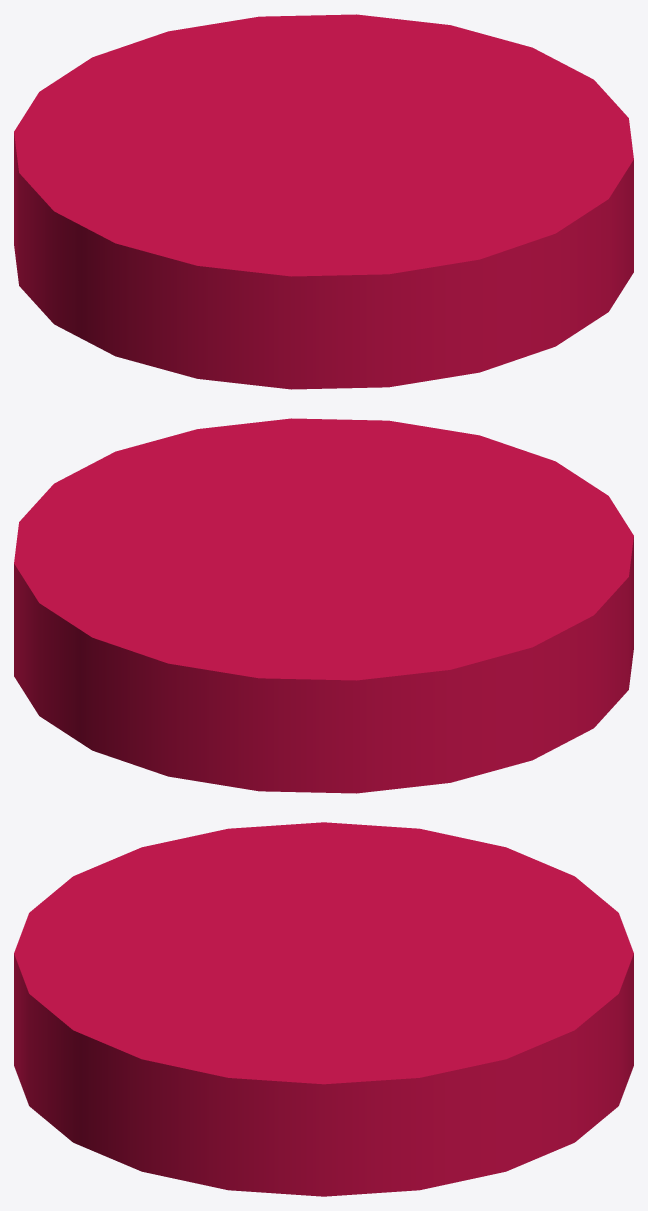
Rendered from Clicker.fbx.
3 renders of one model, top to bottom at view 1: azimuth 30°, elevation 25°; view 2: azimuth 150°, elevation 25°; view 3: azimuth 270°, elevation 25°, orthographic.
Parts seen in each view (by area): view 1: Clicker; view 2: Clicker; view 3: Clicker.
Boxes of the visible parts, x1=… form: Clicker: x1=14, y1=14, x2=633, y2=389; Clicker: x1=14, y1=418, x2=633, y2=793; Clicker: x1=14, y1=822, x2=633, y2=1196.
Size of the model in its own units: 12 by 2.4 by 12.
